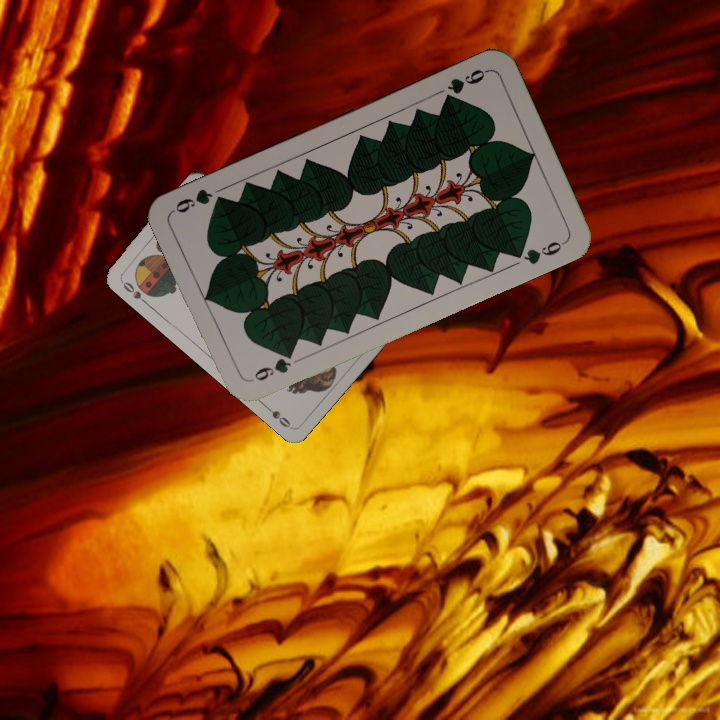G9: (439, 65, 491, 105), (246, 347, 297, 385)
SO: (117, 276, 153, 307)
